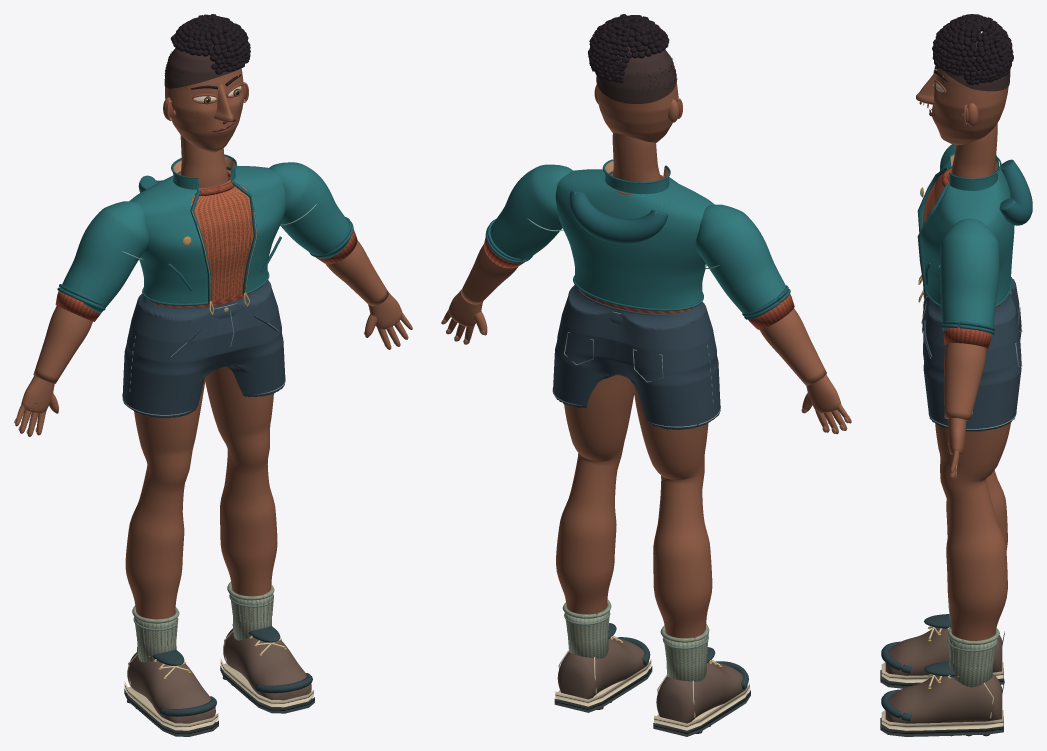
3 renders of one model, left to right at view 1: azimuth 30°, elevation 25°; view 2: azimuth 150°, elevation 25°; view 3: azimuth 270°, elevation 25°, orthographic. The views are drawn at different scales.
Parts seen in each view (by area): view 1: Clothing / joined canvas walking shorts, Anatomy / R leg, Anatomy / L leg, Clothing / open weather shell, Clothing / L shell sleeve, Clothing / clay knit pullover, Clothing / R shell sleeve, Face / continuous head sculpture, Footwear / L Boots • oiled leather, Footwear / R Boots • oiled leather, Hair / Hair • black brown, Anatomy / L arm (+19 smaller); view 2: Clothing / joined canvas walking shorts, Clothing / open weather shell, Anatomy / R leg, Anatomy / L leg, Clothing / L shell sleeve, Clothing / R shell sleeve, Hair / Hair • black brown, Clothing / Shell • shadow teal, Footwear / L Boots • oiled leather, Footwear / R Boots • oiled leather, Hair / Hair • shaved side, Face / continuous head sculpture (+13 smaller); view 3: Anatomy / R leg, Clothing / joined canvas walking shorts, Clothing / R shell sleeve, Clothing / open weather shell, Footwear / R Boots • oiled leather, Hair / Hair • black brown, Face / continuous head sculpture, Anatomy / R arm, Hair / Hair • curl edge, Footwear / L Boots • oiled leather, Clothing / Shell • shadow teal, Clothing / R wool sock (+18 smaller).
Boxes of the visible parts, bbox=[...] form: Clothing / joined canvas walking shorts: bbox=[122, 280, 285, 418]; Anatomy / R leg: bbox=[205, 366, 277, 596]; Anatomy / L leg: bbox=[125, 377, 205, 619]; Clothing / open weather shell: bbox=[129, 165, 285, 303]; Clothing / L shell sleeve: bbox=[62, 201, 148, 313]; Clothing / clay knit pullover: bbox=[191, 177, 253, 300]; Clothing / R shell sleeve: bbox=[269, 162, 350, 258]; Face / continuous head sculpture: bbox=[165, 68, 244, 152]; Footwear / L Boots • oiled leather: bbox=[127, 651, 215, 730]; Footwear / R Boots • oiled leather: bbox=[223, 628, 311, 707]; Hair / Hair • black brown: bbox=[164, 14, 250, 89]; Anatomy / L arm: bbox=[33, 306, 92, 383]; Clothing / joined canvas walking shorts: bbox=[553, 285, 720, 429]; Clothing / open weather shell: bbox=[555, 169, 714, 308]; Anatomy / R leg: bbox=[556, 375, 634, 614]; Anatomy / L leg: bbox=[633, 384, 712, 638]; Clothing / L shell sleeve: bbox=[695, 204, 785, 316]; Clothing / R shell sleeve: bbox=[490, 164, 572, 262]; Hair / Hair • black brown: bbox=[588, 14, 677, 94]; Clothing / Shell • shadow teal: bbox=[569, 159, 703, 311]; Footwear / L Boots • oiled leather: bbox=[656, 662, 747, 729]; Footwear / R Boots • oiled leather: bbox=[557, 638, 648, 705]; Hair / Hair • shaved side: bbox=[596, 37, 676, 103]; Face / continuous head sculpture: bbox=[596, 81, 678, 142]; Anatomy / R leg: bbox=[935, 422, 1010, 640]; Clothing / joined canvas walking shorts: bbox=[922, 277, 1021, 431]; Clothing / R shell sleeve: bbox=[940, 218, 999, 331]; Clothing / open weather shell: bbox=[921, 159, 1014, 304]; Footwear / R Boots • oiled leather: bbox=[885, 674, 1002, 723]; Hair / Hair • black brown: bbox=[932, 14, 1013, 84]; Face / continuous head sculpture: bbox=[932, 68, 1008, 145]; Anatomy / R arm: bbox=[944, 343, 986, 420]; Hair / Hair • curl edge: bbox=[932, 14, 1013, 85]; Footwear / L Boots • oiled leather: bbox=[885, 627, 1002, 675]; Clothing / Shell • shadow teal: bbox=[925, 152, 1032, 307]; Clothing / R wool sock: bbox=[949, 632, 996, 687].
Bounding box in the file's own units: 0.9941 × 1.61 × 0.3232.
33 materials, 5 textured.
